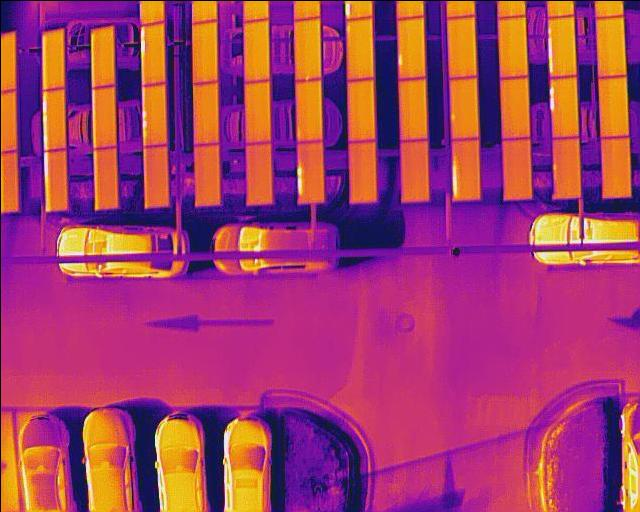Cell: (398, 17, 426, 80)
No-Anomaly: (400, 140, 430, 202), (600, 136, 630, 197), (346, 78, 375, 141), (502, 139, 532, 199), (500, 76, 529, 138), (498, 15, 527, 77), (348, 140, 376, 202), (398, 78, 426, 140), (449, 77, 477, 139), (552, 138, 581, 197), (599, 76, 628, 135), (449, 16, 477, 77), (346, 17, 373, 80), (296, 78, 322, 143), (246, 143, 273, 205), (596, 15, 624, 74), (193, 143, 220, 204), (244, 80, 270, 143), (295, 17, 321, 80), (92, 84, 116, 151), (244, 18, 269, 82), (192, 82, 218, 143), (191, 22, 217, 83), (93, 146, 118, 209), (145, 145, 169, 208), (42, 29, 64, 89), (92, 26, 113, 88)
Unclassified: (549, 77, 579, 137), (547, 15, 575, 75), (297, 140, 324, 202), (452, 139, 480, 198), (142, 84, 167, 144), (141, 24, 165, 85), (42, 86, 65, 149), (43, 150, 66, 209)
